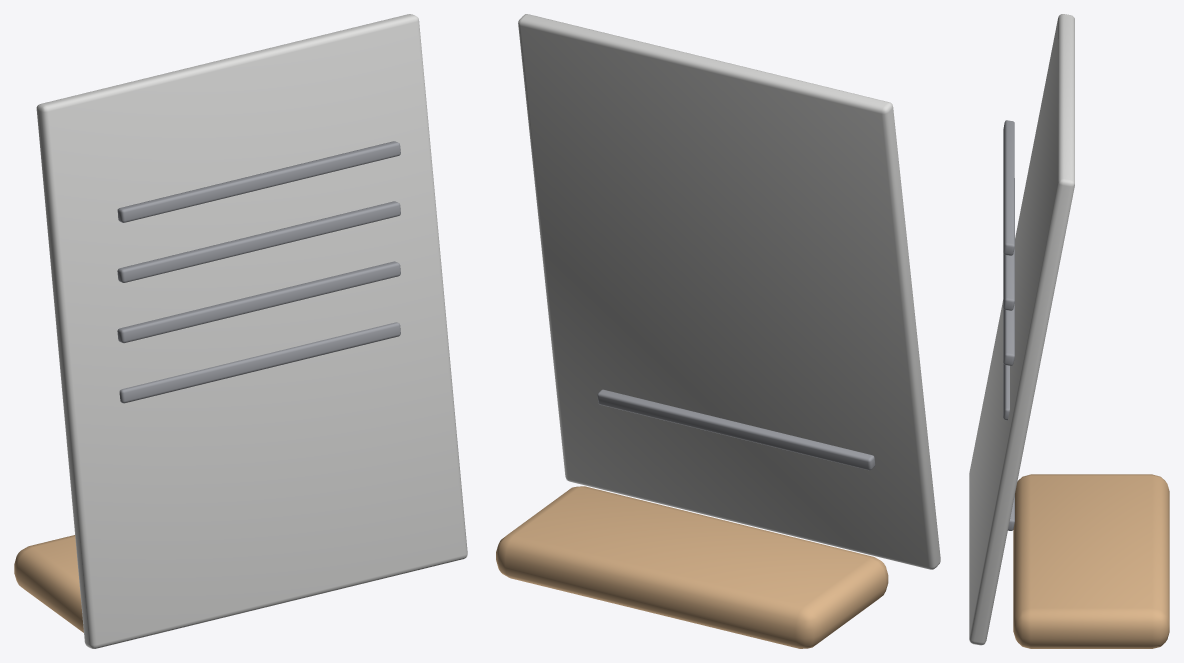
File: articles--note.glb
3 renders of one model, left to right at view 1: azimuth 30°, elevation 25°; view 2: azimuth 150°, elevation 25°; view 3: azimuth 270°, elevation 25°, orthographic. The views are drawn at different scales.
Visible parts, largest first — view 1: articles--note; view 2: articles--note; view 3: articles--note.
Boxes of the visible parts, x1,y1,x2,y2 form: articles--note: (14, 14, 467, 648); articles--note: (496, 14, 940, 648); articles--note: (969, 14, 1169, 648).
Bounding box in the file's own units: 0.46 × 0.6162 × 0.231.
